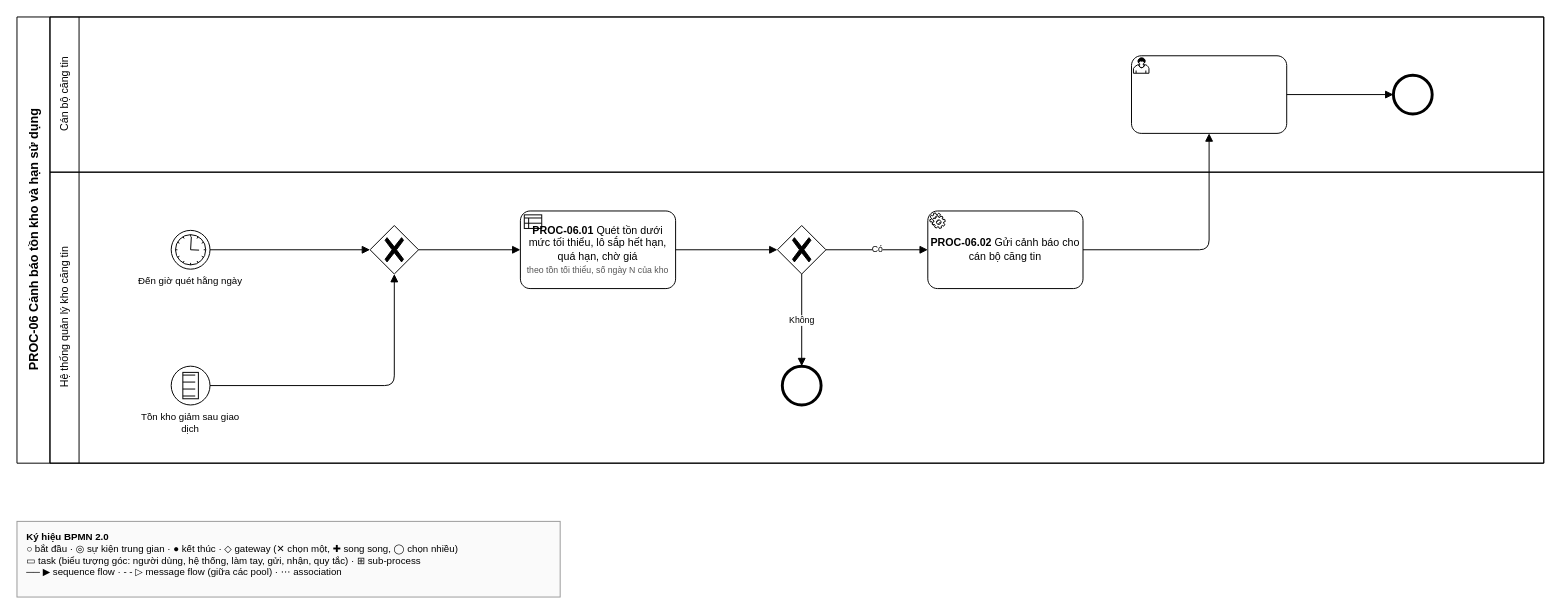
The diagram is 1561 pixels wide and 614 high, and some of its shapes have lost their labels. The centre of each missing label's shape, as x and y in pixels:
"Có mục cần cảnh báo?" belongs at (801,249).
"Cảnh báo Đã xem" belongs at (1412,94).
"Không có cảnh báo" belongs at (801,385).
"PROC-06.03 Xem cảnh báo, chọn hướng xử lý nhập kho, điều chuyển, đề nghị kiểm kê" belongs at (1209,94).
